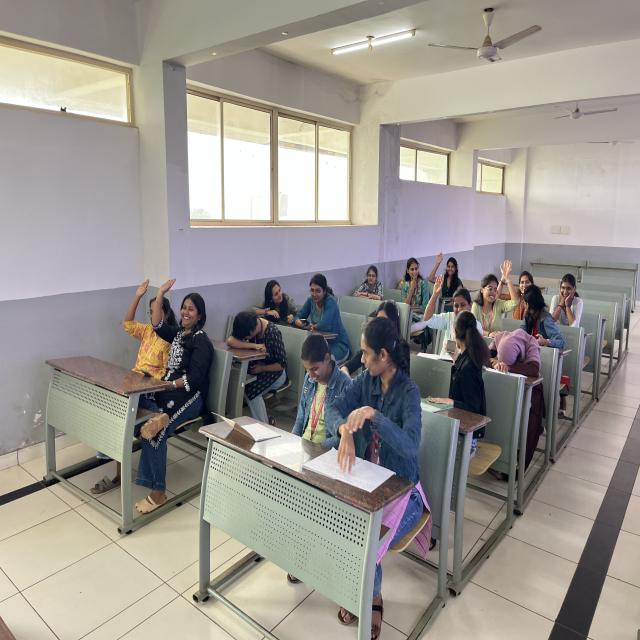Hand Rising: (152, 268, 213, 439), (120, 276, 184, 404), (467, 255, 519, 331), (424, 273, 470, 342), (428, 249, 464, 301)
Sleeping: (480, 319, 546, 397), (222, 307, 291, 371)
Using Phone: (287, 324, 351, 435), (430, 309, 489, 410), (296, 274, 346, 341)
